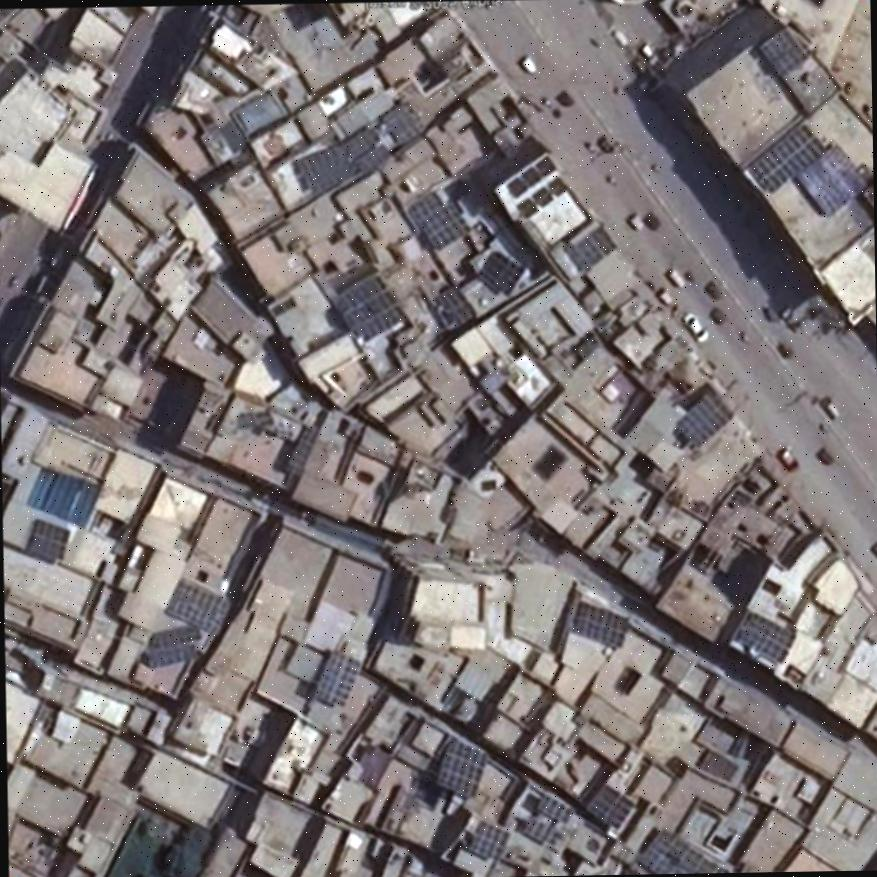Solarpanel: (747, 123, 825, 193), (335, 274, 400, 341), (637, 830, 735, 873), (408, 192, 469, 250), (162, 581, 227, 633), (733, 611, 797, 662), (294, 143, 358, 192), (672, 394, 731, 445), (437, 741, 487, 798), (311, 647, 359, 706), (572, 601, 628, 645), (756, 26, 806, 75), (342, 125, 390, 174), (583, 784, 634, 829), (476, 251, 523, 294), (566, 226, 612, 269), (506, 157, 554, 197), (518, 176, 567, 215), (28, 520, 70, 560), (470, 818, 509, 859), (436, 288, 477, 326), (383, 101, 421, 142), (522, 816, 555, 845), (536, 798, 571, 822)
